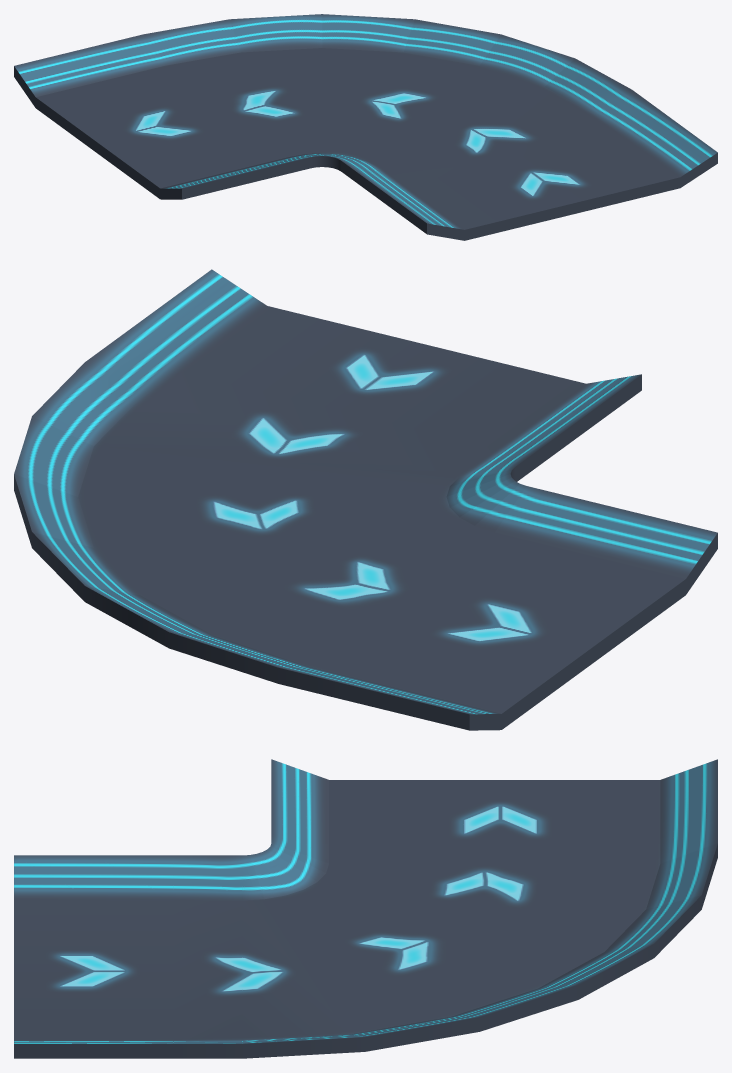
File: road_belok.fbx
The picture shows the model from 3 angles, top to bottom: view 1: azimuth 30°, elevation 25°; view 2: azimuth 150°, elevation 25°; view 3: azimuth 270°, elevation 25°; orthographic projection. The views are drawn at different scales.
Parts seen in each view (by area): view 1: pCube8; view 2: pCube8; view 3: pCube8.
Part boxes in pixels (<box>): pCube8: <box>14,14,717,240</box>; pCube8: <box>14,269,717,730</box>; pCube8: <box>14,759,717,1058</box>.
Bounding box in the file's own units: 17.71 × 1.02 × 18.5.
